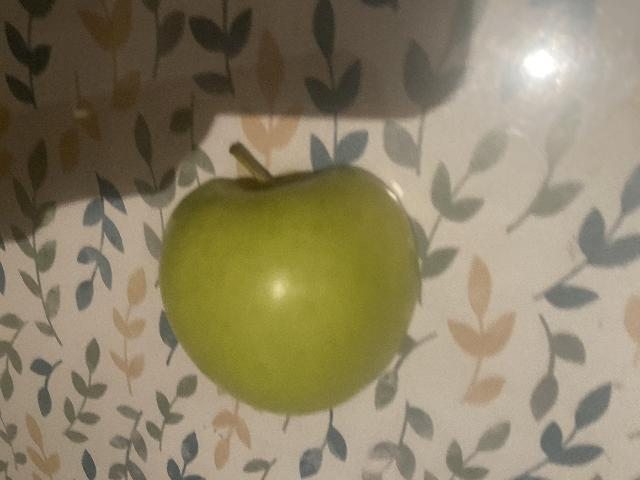Organik: (157, 146, 430, 422)
